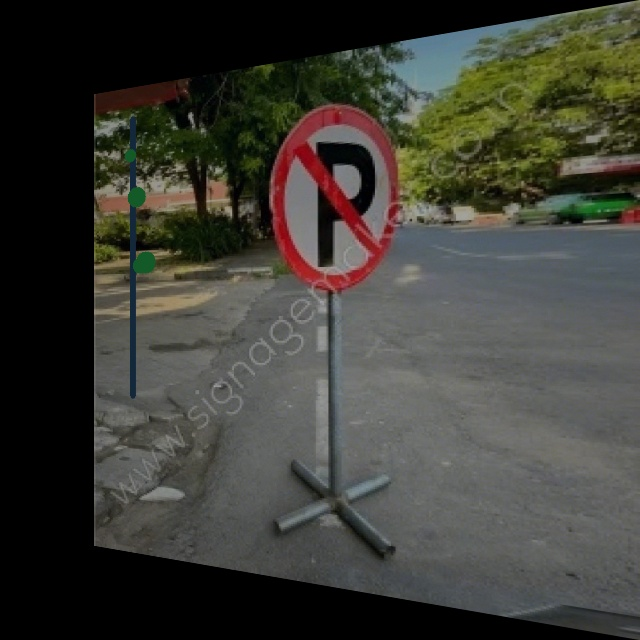No_Parking: (271, 93, 401, 292)
